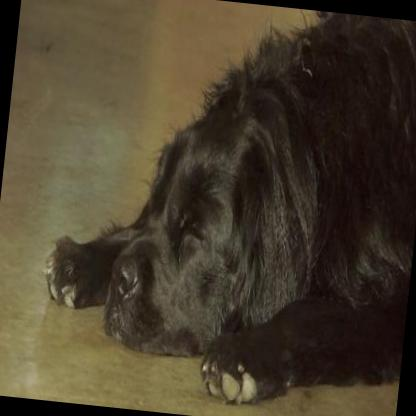Newfoundland: (30, 0, 416, 416)
